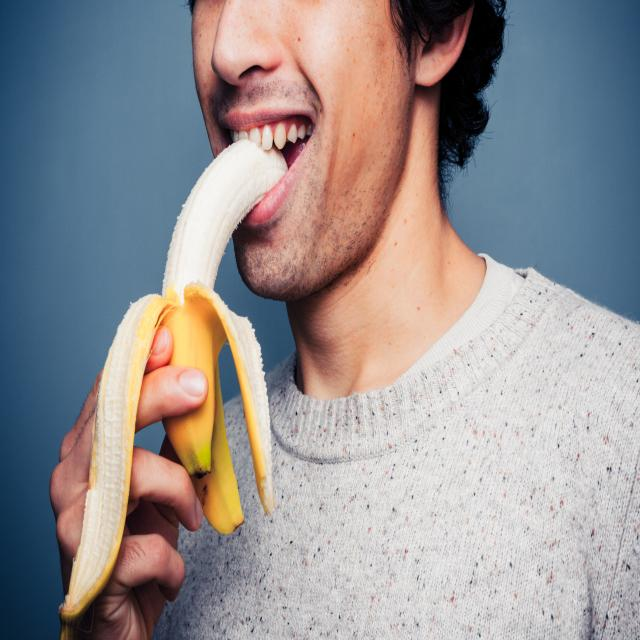banana_peel: (39, 93, 320, 634)
